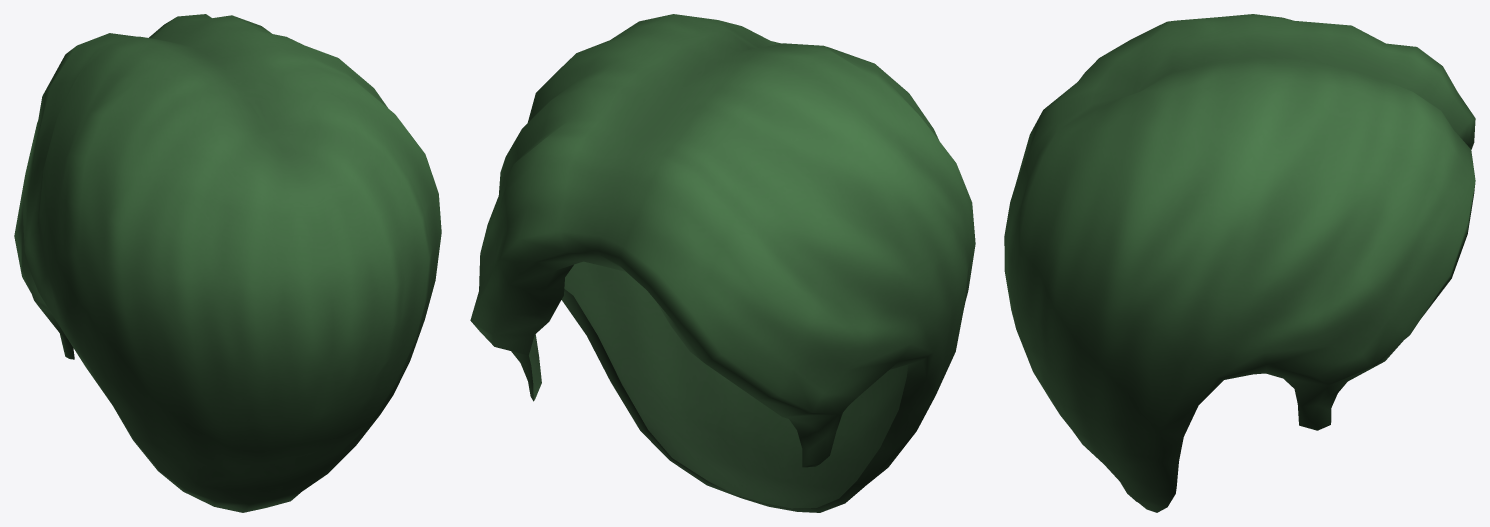
File: Hair_Male_003_textured_green.glb
3 views of the same model, side by side, from view 1: azimuth 30°, elevation 25°; view 2: azimuth 150°, elevation 25°; view 3: azimuth 270°, elevation 25° (orthographic). The views are drawn at different scales.
Visible parts, largest first — view 1: Hair_Male_003; view 2: Hair_Male_003; view 3: Hair_Male_003.
Boxes of the visible parts, x1,y1,x2,y2 form: Hair_Male_003: (14,14,441,512); Hair_Male_003: (470,14,975,512); Hair_Male_003: (1004,14,1475,512).
Size of the model in its own units: 0.2155 by 0.2438 by 0.2307.
1 material, 1 textured.
